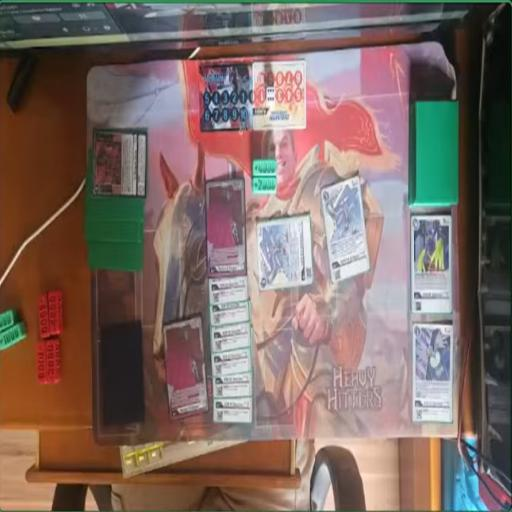card: (318, 172, 374, 277), (161, 313, 208, 417), (256, 214, 313, 294), (410, 209, 453, 314), (204, 177, 248, 276), (412, 324, 454, 426), (91, 126, 148, 199), (210, 347, 252, 379), (212, 369, 253, 401), (212, 396, 256, 424), (209, 325, 253, 352), (208, 301, 252, 327), (208, 276, 249, 302)
